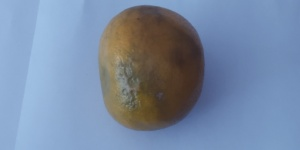BAD: (98, 5, 206, 129)
